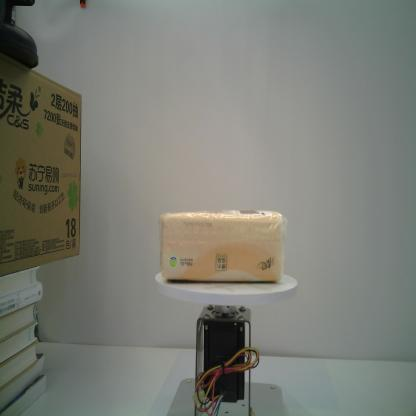Tissue: (158, 208, 286, 286)
